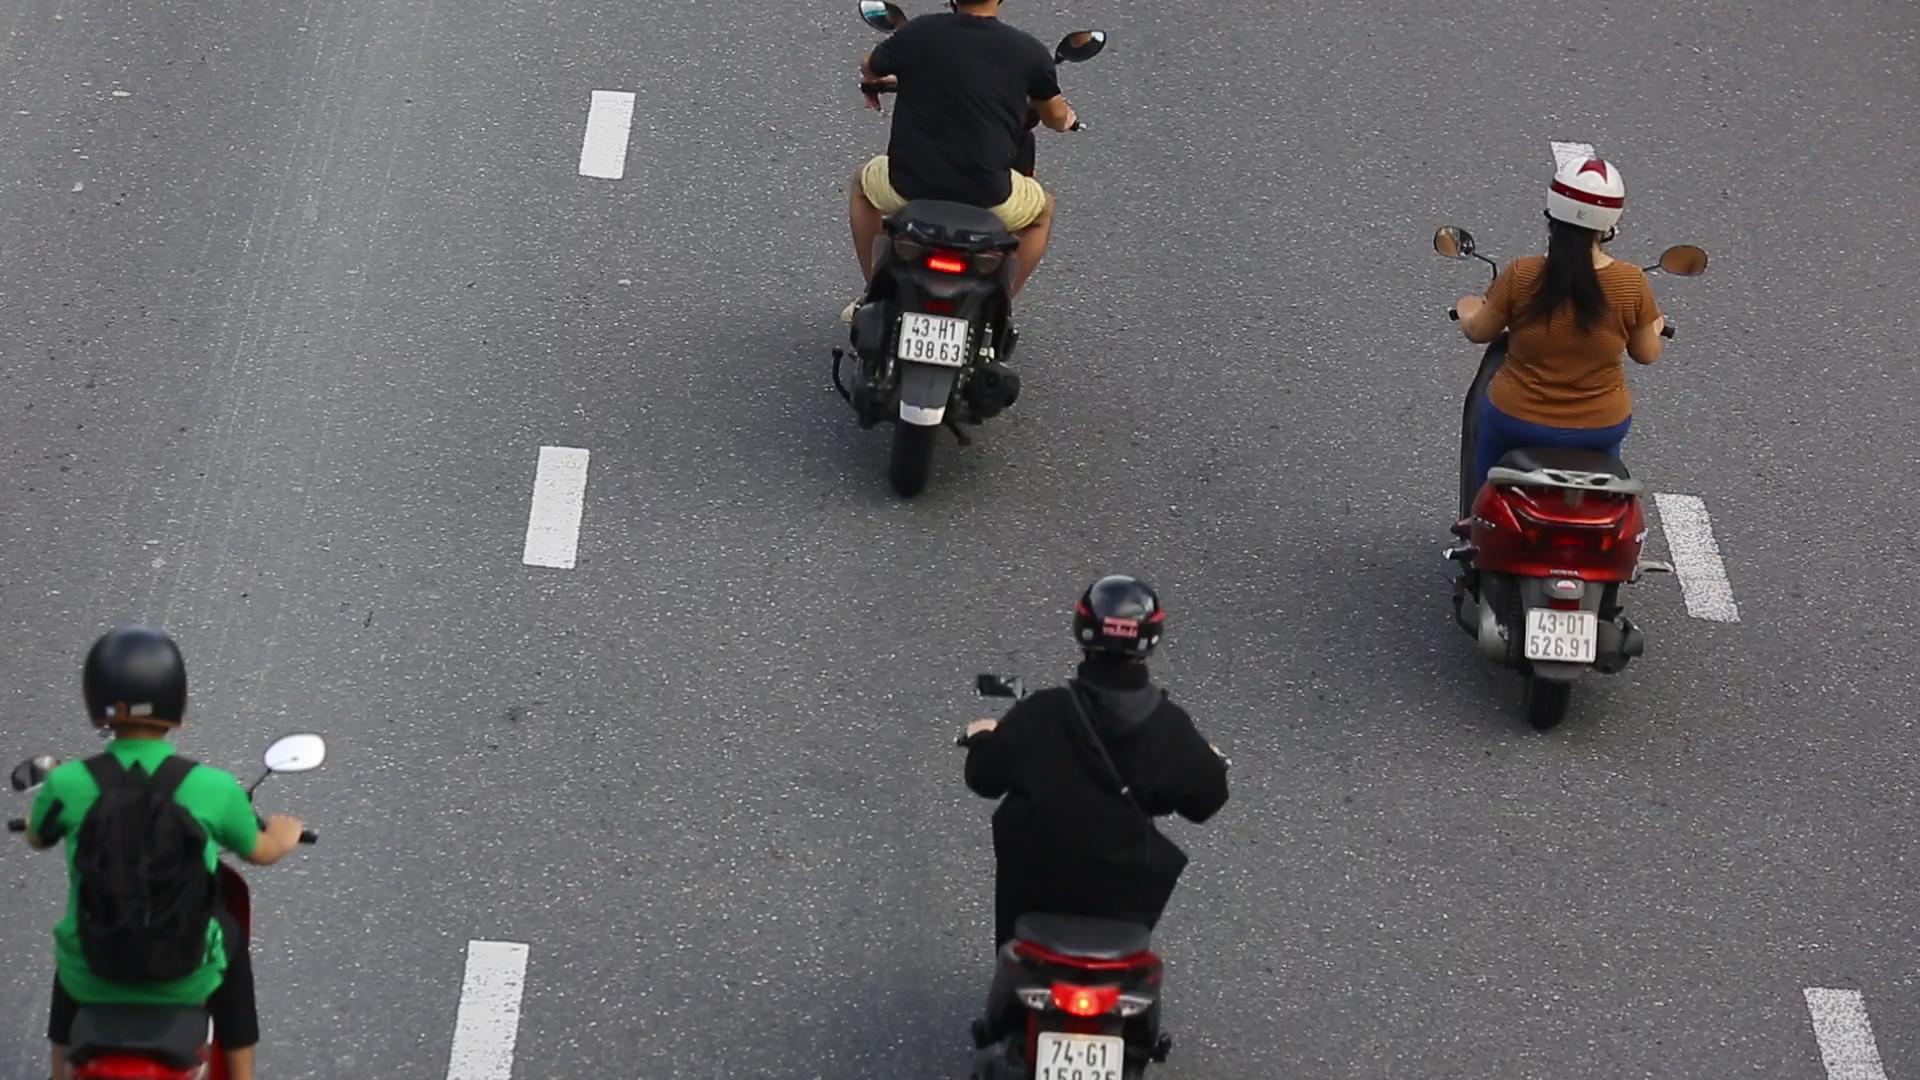motobike: (1439, 142, 1717, 740)
